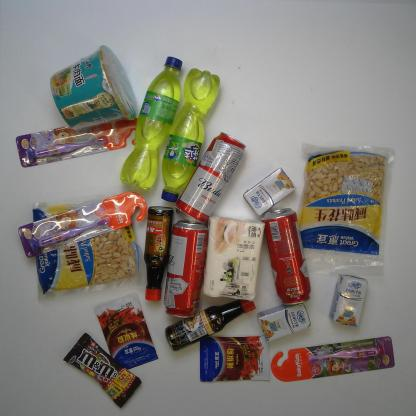Alcohol: (175, 130, 247, 224), (260, 206, 312, 308), (162, 219, 209, 320)
Chocolate: (61, 332, 142, 408)
Dried Fruit: (296, 140, 397, 277), (28, 194, 148, 296)
Drink: (119, 54, 184, 192), (160, 67, 221, 203)
Instant Noodles: (48, 44, 140, 132)
Milk: (242, 166, 297, 217), (328, 272, 369, 330), (257, 301, 312, 344)
Personal Hygiene: (16, 190, 148, 259), (14, 115, 139, 170), (270, 335, 396, 383)
Seasoner: (93, 291, 159, 370), (163, 299, 257, 352), (198, 334, 272, 383), (142, 204, 174, 302)
Tissue: (201, 214, 267, 303)
